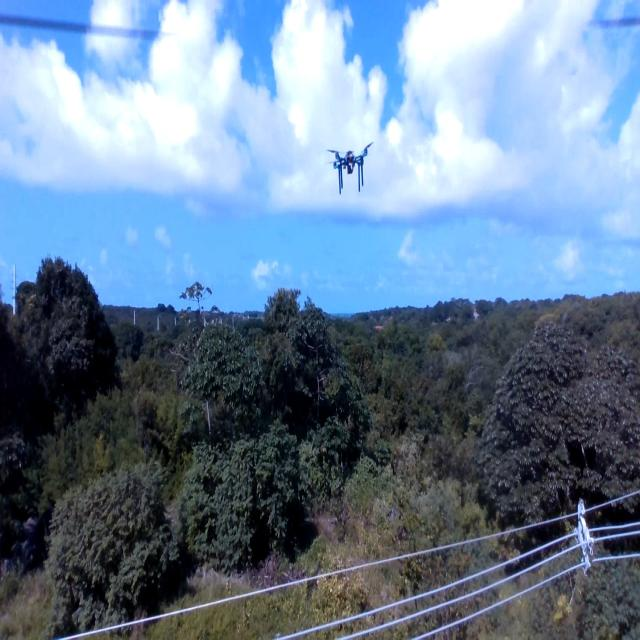-uav-: (318, 128, 377, 198)
